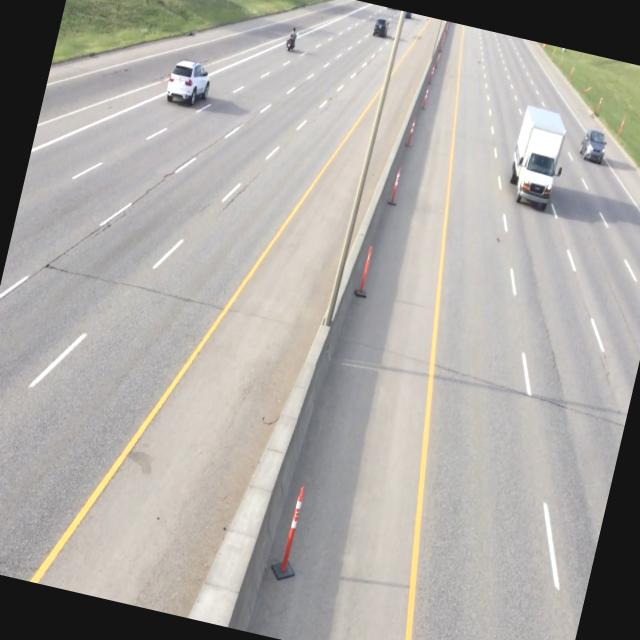Vehicle: (498, 101, 572, 212), (162, 50, 214, 114), (576, 123, 609, 166), (370, 14, 390, 40)
